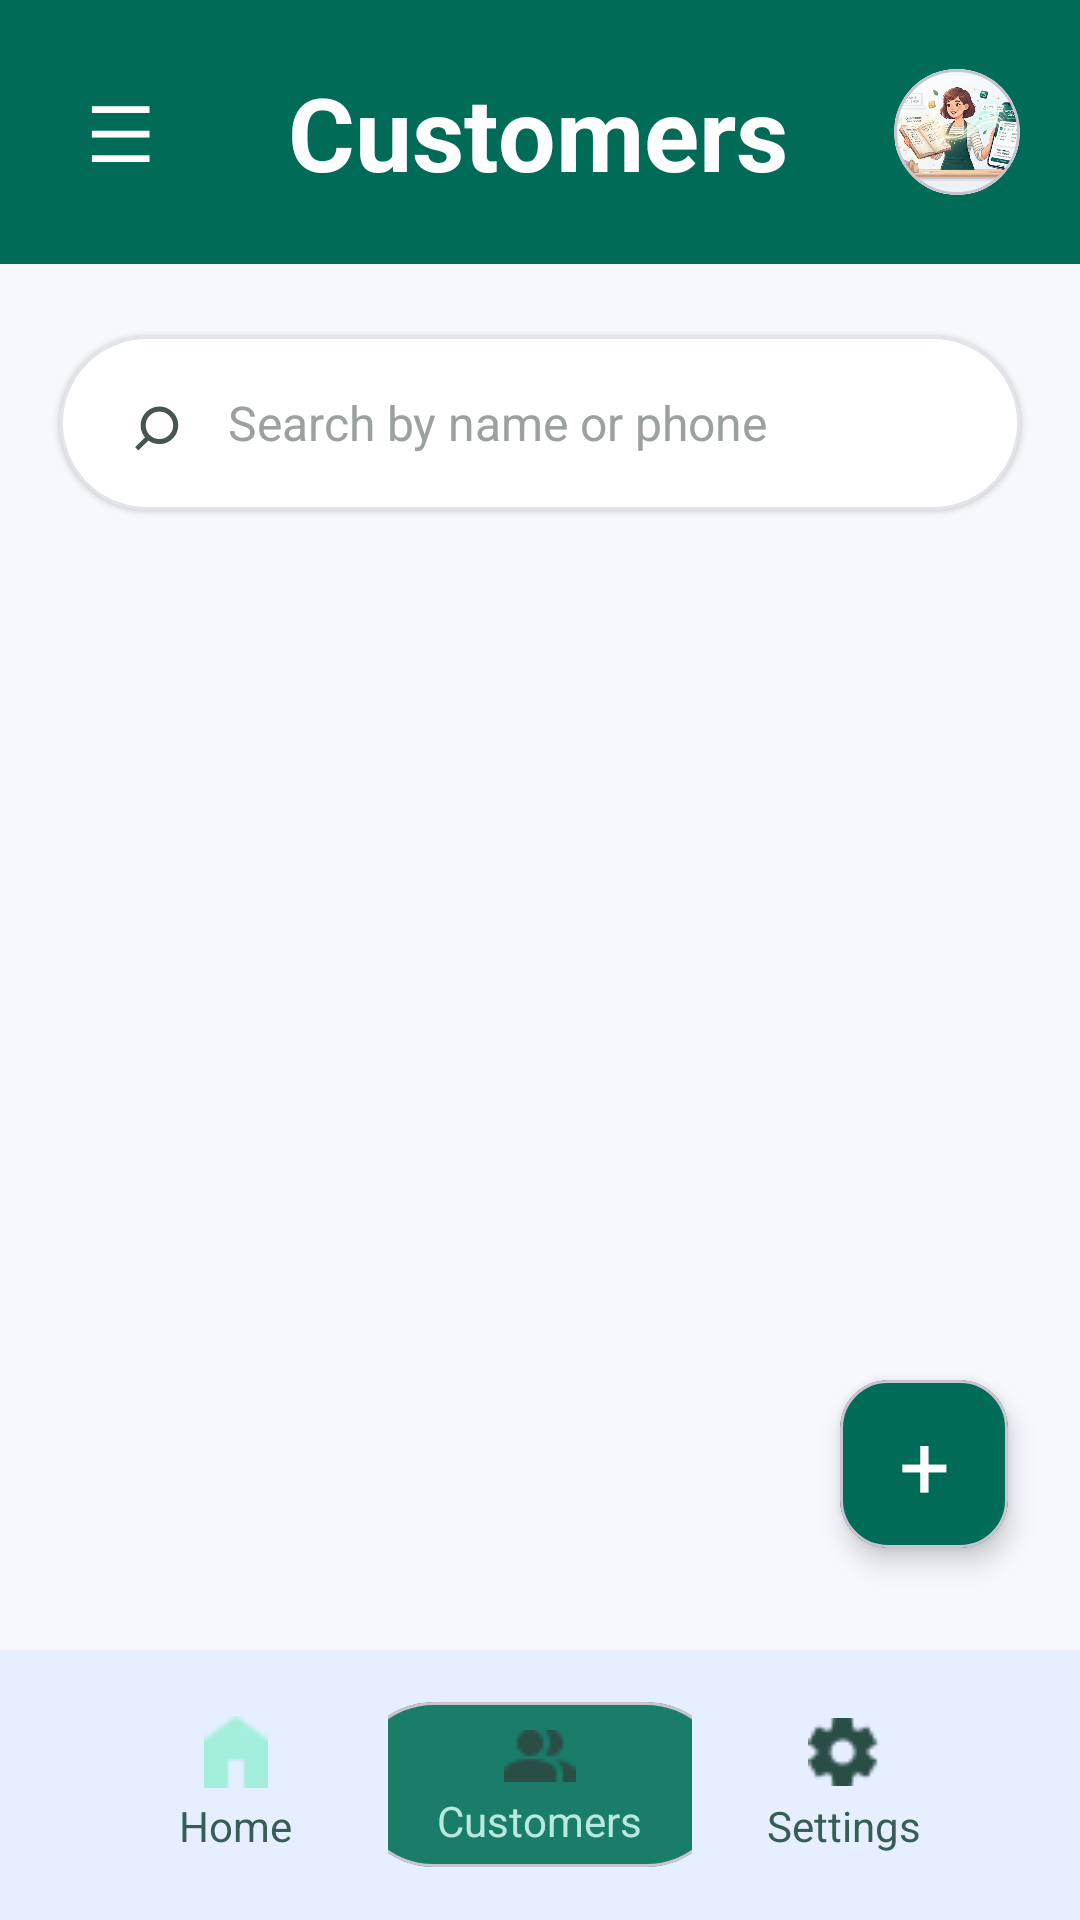

Icons on this 1080×1920 Android screen, each with its box as (x1, y1, x2, y2):
Profile: (894, 69, 1020, 195)
